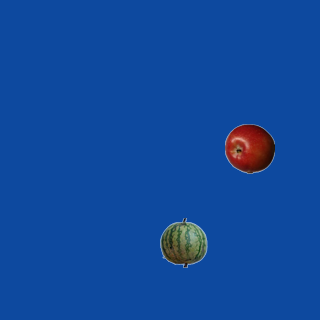Apple Braeburn: (224, 123, 274, 173)
Watermelon: (158, 217, 208, 267)
